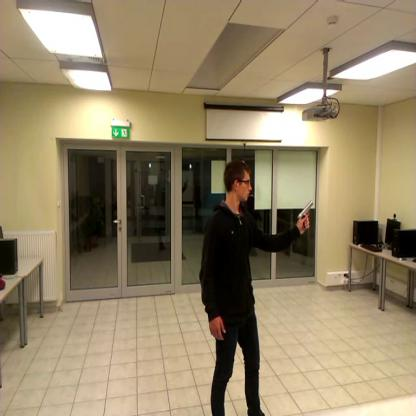Pistol: (296, 196, 318, 236)
